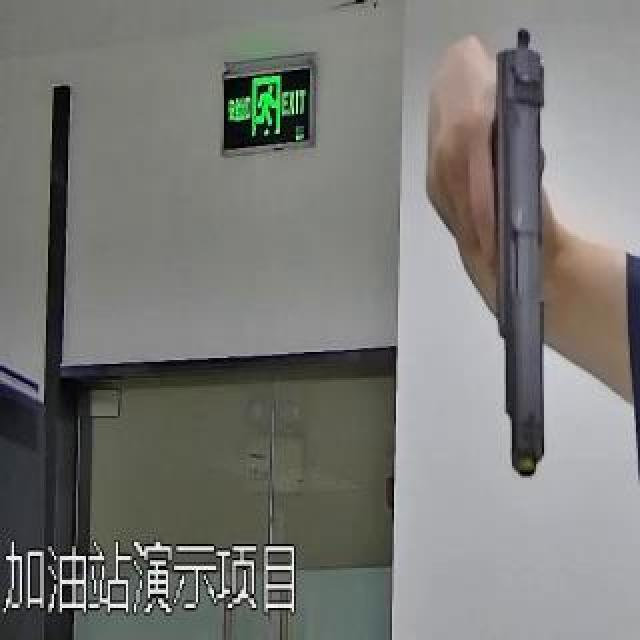Guns: (452, 0, 592, 494)
